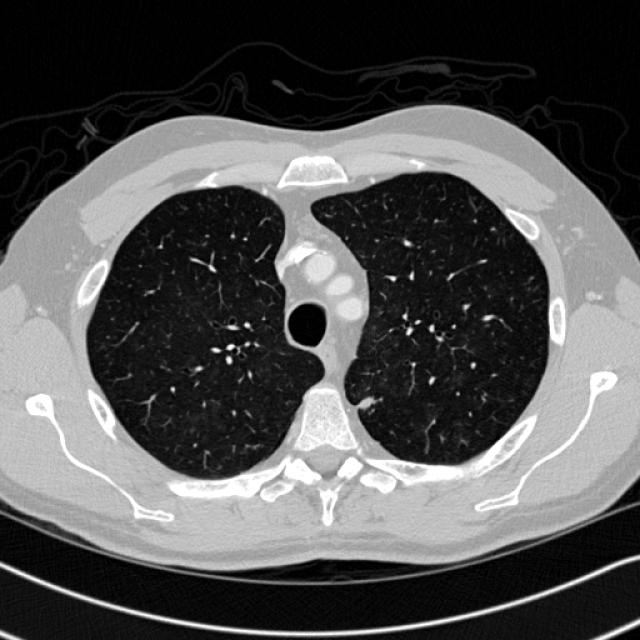nodule: (349, 386, 379, 416)
